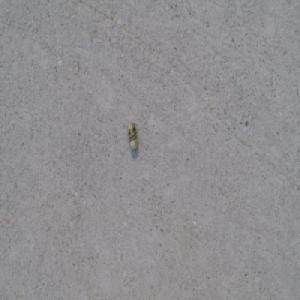BoltNutSet: (126, 122, 138, 149)
